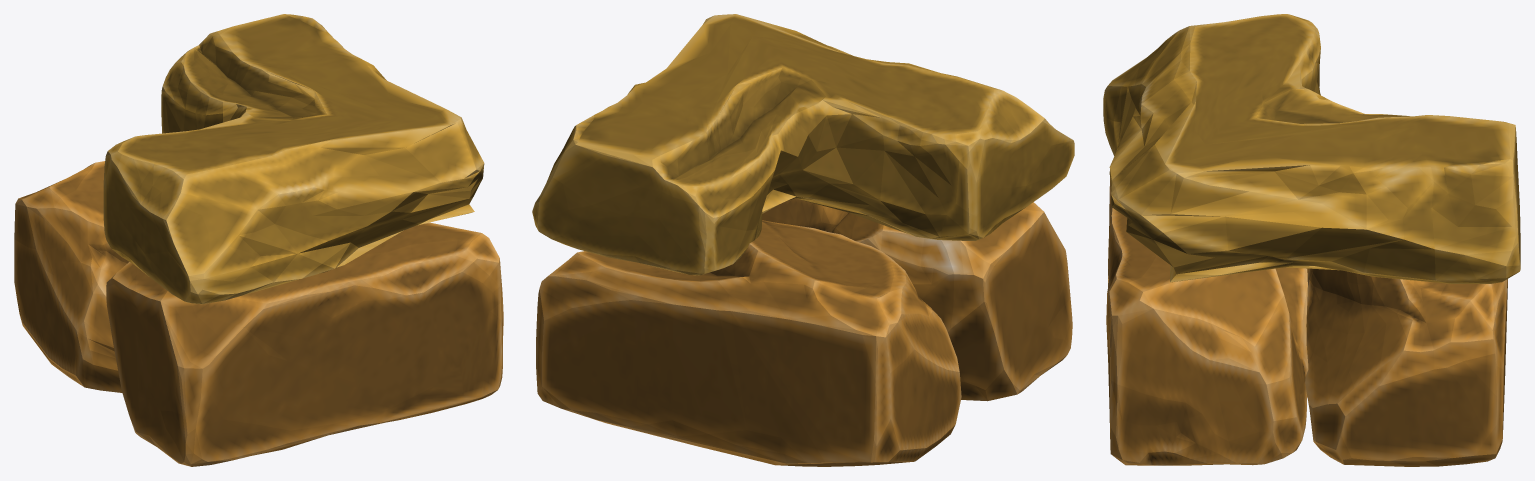
Rendered from Wall_corner.fbx.
The picture shows the model from 3 angles, left to right: view 1: azimuth 30°, elevation 25°; view 2: azimuth 150°, elevation 25°; view 3: azimuth 270°, elevation 25°; orthographic projection. The views are drawn at different scales.
Parts seen in each view (by area): view 1: Wall_corner001; view 2: Wall_corner001; view 3: Wall_corner001.
Part boxes in pixels (bbox=[...]): Wall_corner001: bbox=[14, 14, 503, 466]; Wall_corner001: bbox=[532, 14, 1074, 466]; Wall_corner001: bbox=[1103, 14, 1520, 466].
Size of the model in its own units: 201 by 158 by 200.
